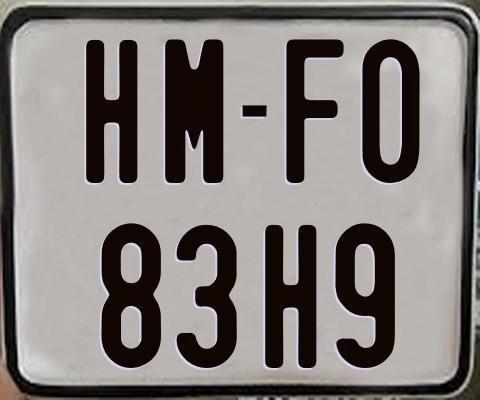0: (359, 36, 417, 186)
3: (174, 223, 235, 370)
8: (101, 223, 163, 373)
9: (334, 223, 395, 373)
F: (285, 38, 346, 183)
H: (265, 224, 321, 370), (85, 37, 141, 181)
M: (165, 39, 228, 189)
